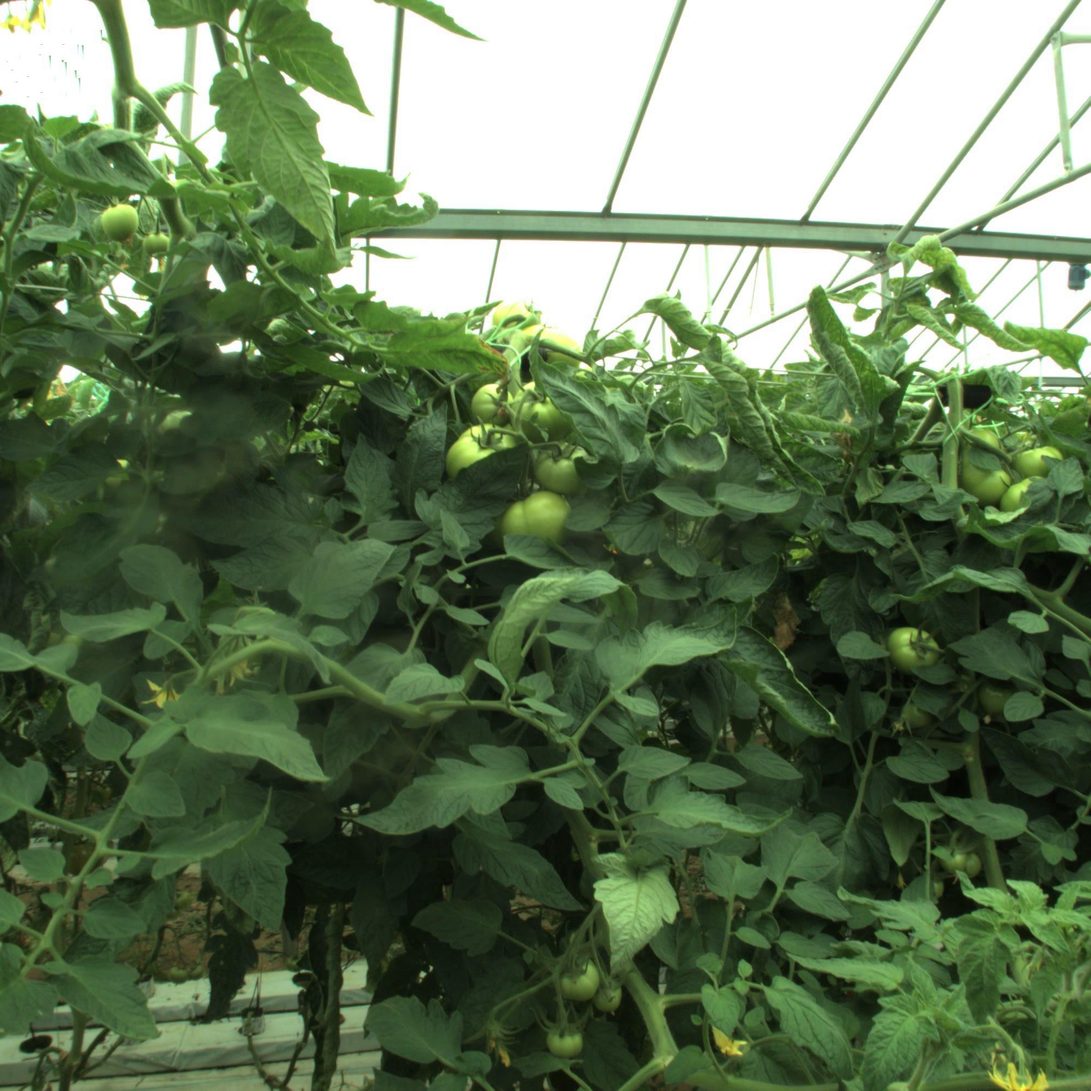unripe: (954, 428, 1031, 506), (448, 428, 523, 502), (497, 490, 571, 565), (534, 433, 598, 497), (519, 392, 573, 446), (469, 380, 519, 430), (889, 628, 934, 673), (557, 957, 602, 1002), (1007, 476, 1052, 521), (1014, 439, 1058, 484), (97, 199, 141, 243), (544, 1018, 586, 1060)
